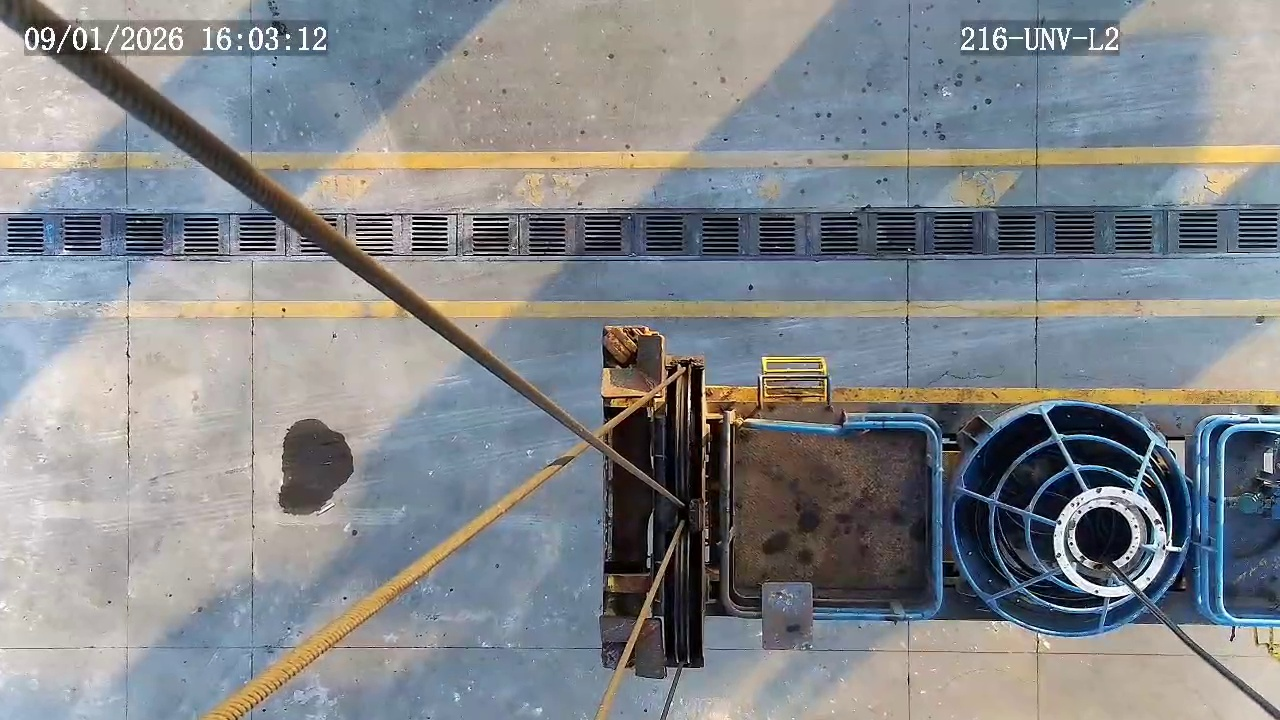left: (954, 404, 1191, 635)
